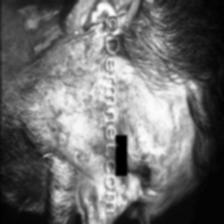Unclassified: (24, 4, 58, 38), (49, 83, 71, 130)
